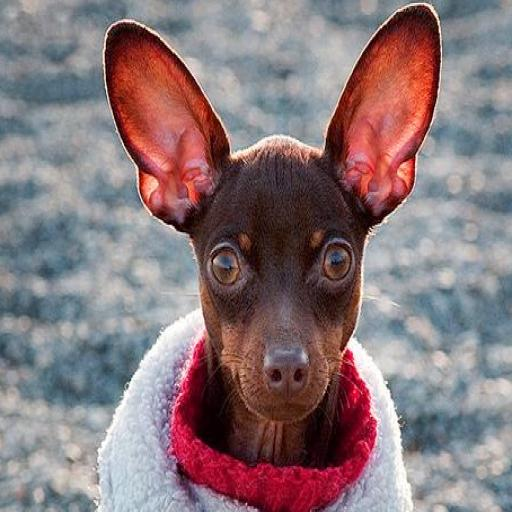dog_face: (107, 0, 428, 441)
